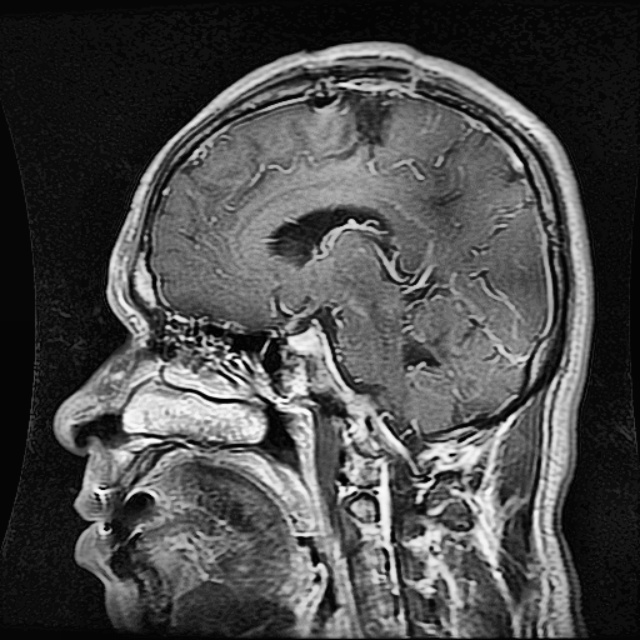Meningioma: (342, 102, 404, 168)
